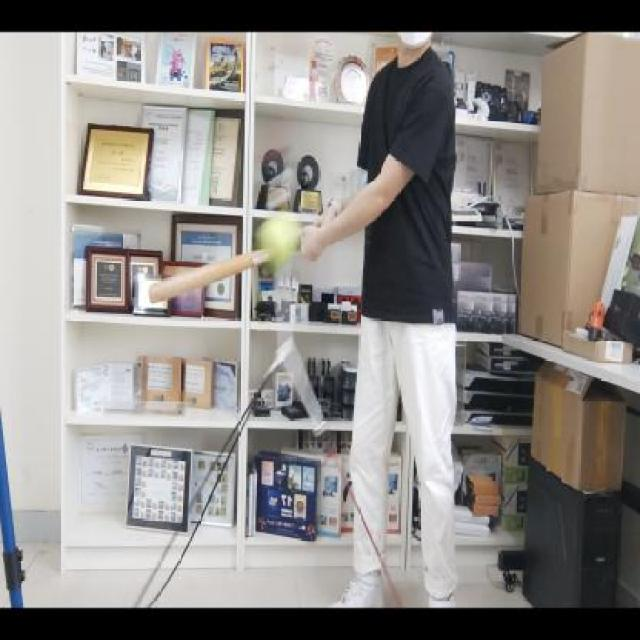baseball: (254, 206, 301, 280)
